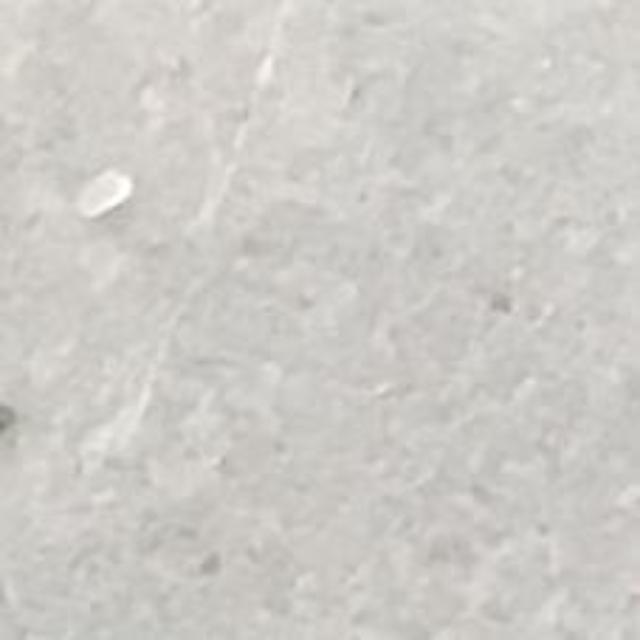peeling plaster: (79, 170, 132, 219)
